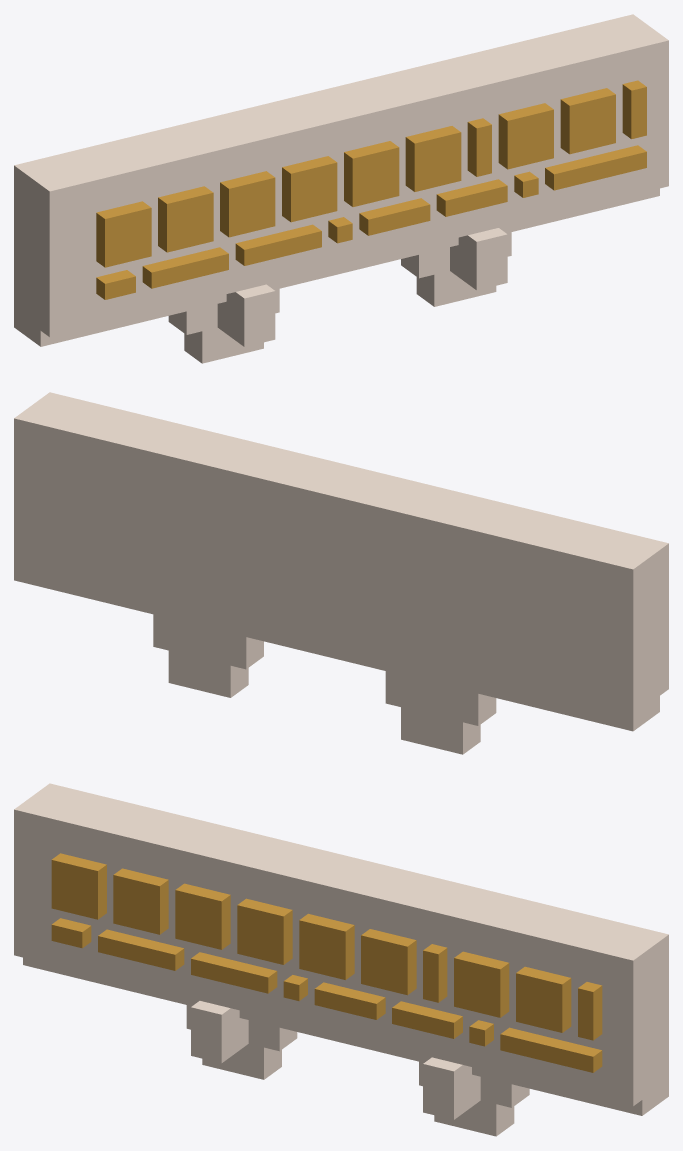
Rendered from south-gate-signboard.obj.
3 renders of one model, top to bottom at view 1: azimuth 30°, elevation 25°; view 2: azimuth 150°, elevation 25°; view 3: azimuth 330°, elevation 25°, orthographic.
Size of the model in its own units: 4 by 1.4 by 0.5.
1 material, 1 textured.
